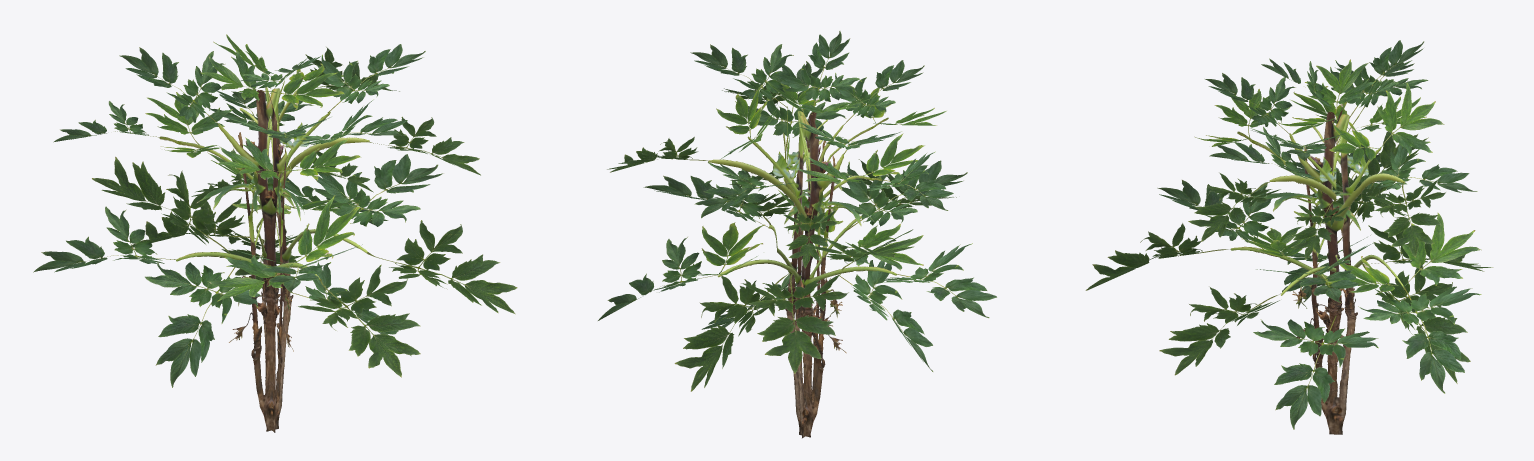
File: m_grass_27.fbx
3 renders of one model, left to right at view 1: azimuth 30°, elevation 25°; view 2: azimuth 150°, elevation 25°; view 3: azimuth 270°, elevation 25°, orthographic. The views are drawn at different scales.
Parts seen in each view (by area): view 1: mesh_grass_27_LOD0; view 2: mesh_grass_27_LOD0; view 3: mesh_grass_27_LOD0.
Part boxes in pixels (x1,y1,x2,y2): mesh_grass_27_LOD0: (33, 34, 517, 432); mesh_grass_27_LOD0: (598, 31, 996, 438); mesh_grass_27_LOD0: (1085, 40, 1493, 434).
Size of what is drawn, in the model's own units: 1.02 by 0.9042 by 0.9451.
